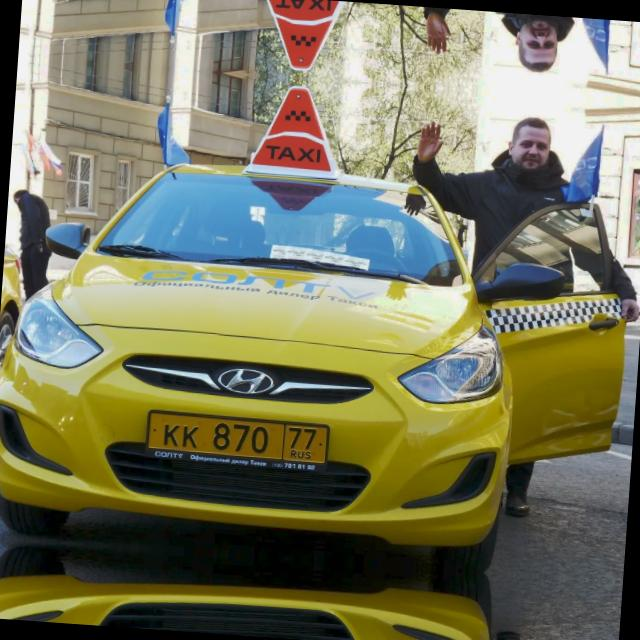taxi: (139, 403, 336, 478)
